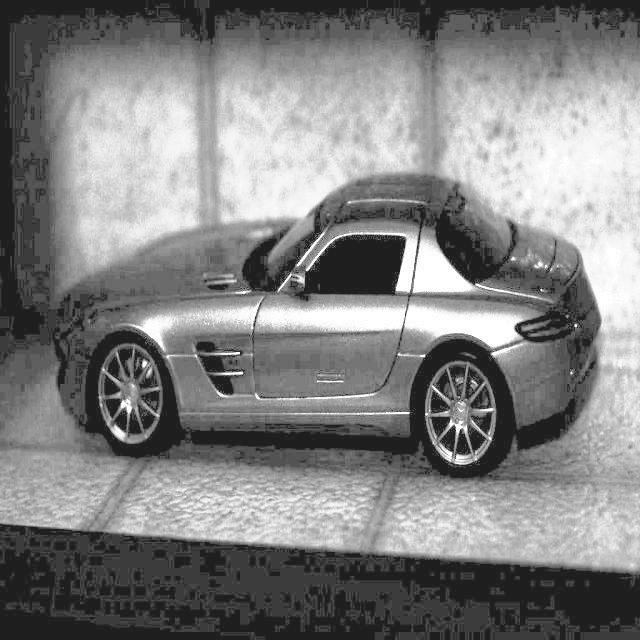Car: (82, 162, 607, 501)
